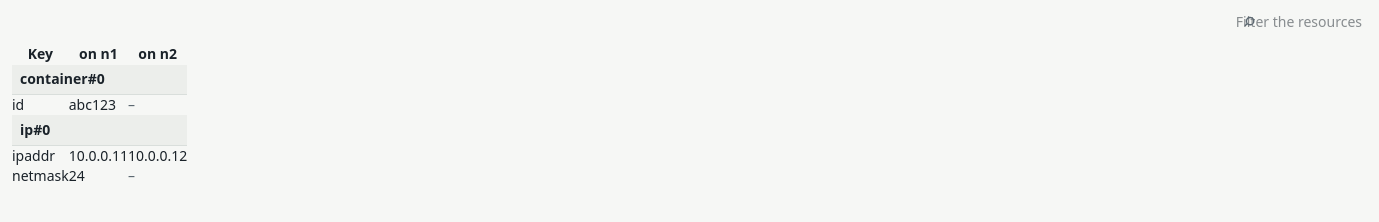
ObjectTabs › resources › one plain table, a line per key, a column per node, a line opening each resource
Check: the column headings read "Key", "on n1", "on n2", in this order, box [12,44,69,65]; [69,44,128,65]; [128,44,187,65]
The resource and the nodes, badges opening the resource and its instances.
Click the button "ip#0": point(35, 130) [20,120,50,140]
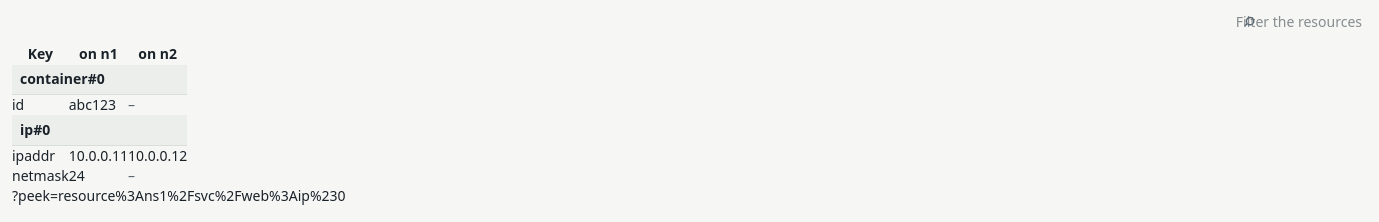
Check: the text with test id "search" shows "peek=resource%3Ans1%2Fsvc%2Fweb%3Aip%230", box [12,186,346,206]
Click the button "on n2": point(158, 54) [138,44,177,65]
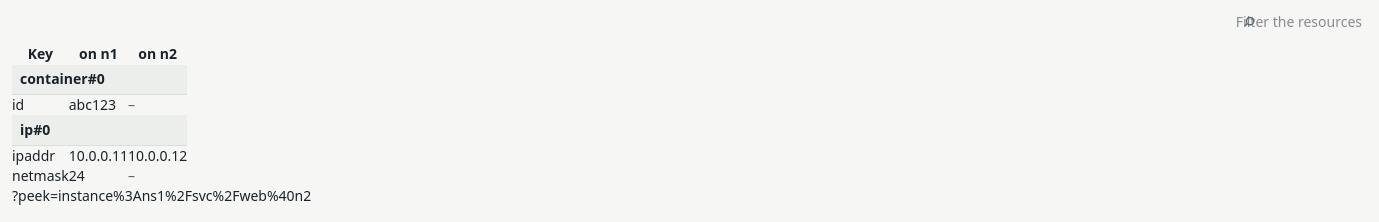
Check: the text with test id "search" shows "peek=instance%3Ans1%2Fsvc%2Fweb%40n2", box [12,186,311,206]
